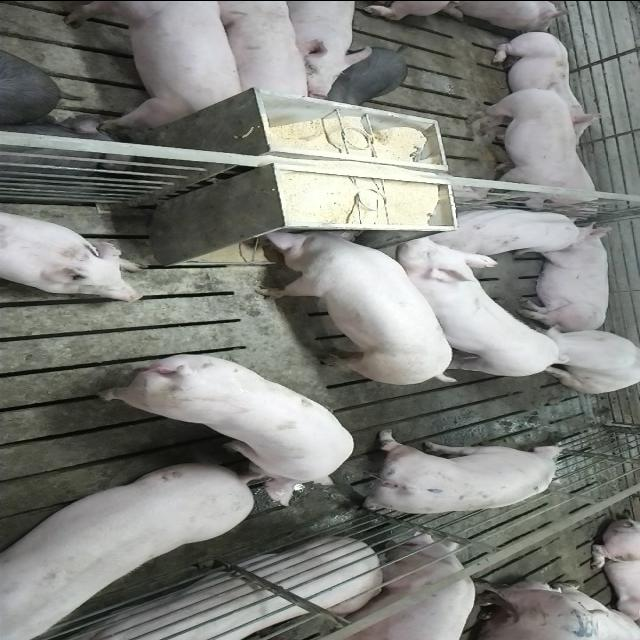Feeding: (240, 219, 460, 383)
Lateral_lying: (30, 539, 388, 640), (514, 224, 616, 332)
Sitting: (517, 322, 639, 392)
Standing: (0, 466, 257, 640), (93, 355, 353, 510), (54, 1, 250, 135), (387, 238, 564, 380), (343, 430, 570, 516), (321, 533, 474, 640), (458, 85, 576, 212), (208, 2, 314, 104), (280, 0, 372, 99)
Sternal_lying: (0, 206, 146, 302), (484, 30, 608, 132)
